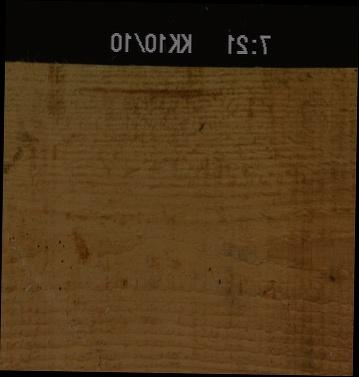small_knot: (325, 272, 337, 282)
